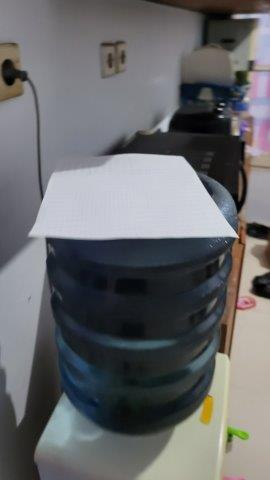kertas: (28, 154, 242, 245)
